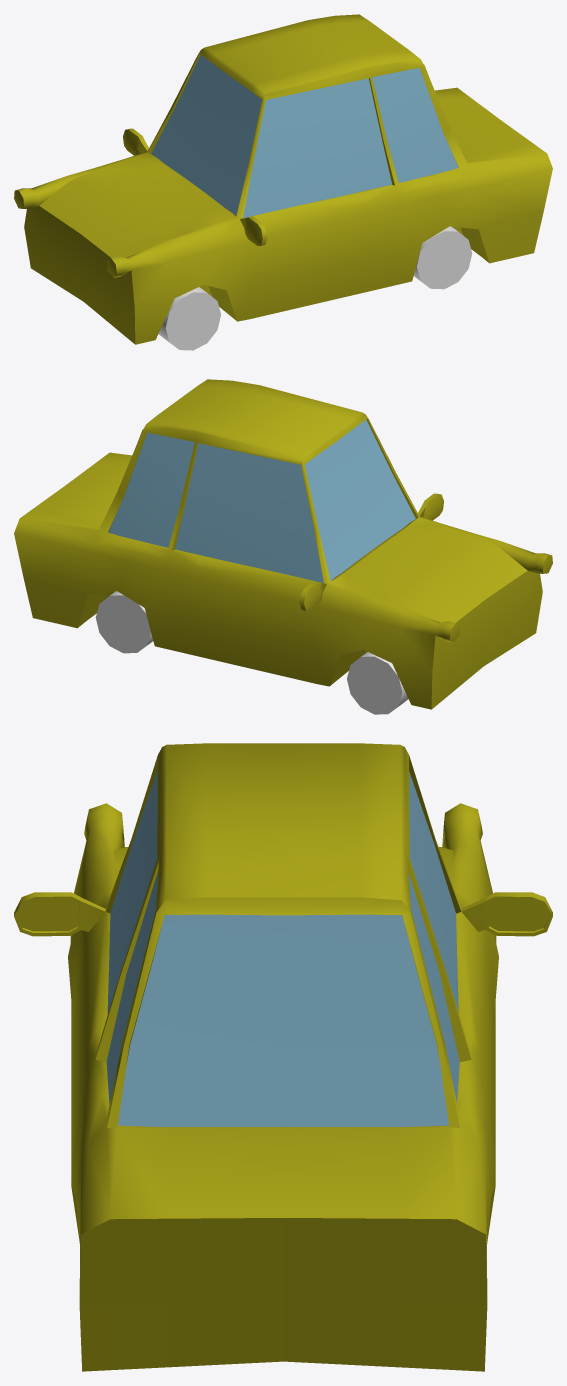
The model's file is MOD_Car.FBX.
3 views of the same model, one above another, from view 1: azimuth 30°, elevation 25°; view 2: azimuth 150°, elevation 25°; view 3: azimuth 270°, elevation 25° (orthographic). The views are drawn at different scales.
Parts seen in each view (by area): view 1: CarChassis, Windows, Wheel, Wheel001; view 2: CarChassis, Windows, Wheel002, Wheel003; view 3: CarChassis, Windows, Window.
Part boxes in pixels (x1,y1,x2,y2): CarChassis: [14, 14, 552, 344]; Windows: [151, 55, 458, 218]; Wheel: [158, 287, 221, 350]; Wheel001: [413, 226, 472, 289]; CarChassis: [14, 379, 552, 709]; Windows: [108, 419, 415, 582]; Wheel002: [347, 652, 408, 714]; Wheel003: [95, 591, 153, 653]; CarChassis: [14, 743, 552, 1371]; Windows: [106, 769, 459, 1126]; Window: [18, 900, 548, 931].
Size of the model in its own units: 569 by 281 by 315.
